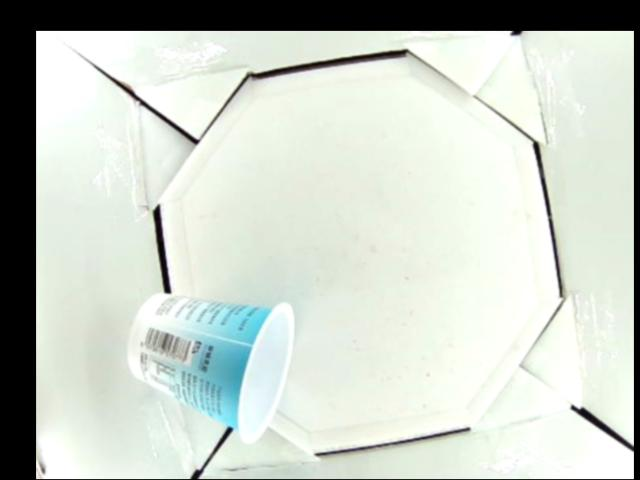Cup: (123, 290, 292, 444)
